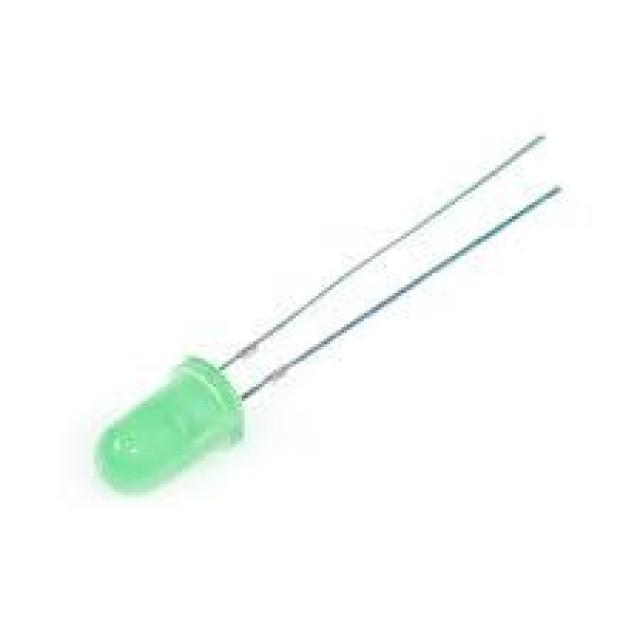Led: (96, 182, 480, 492)
